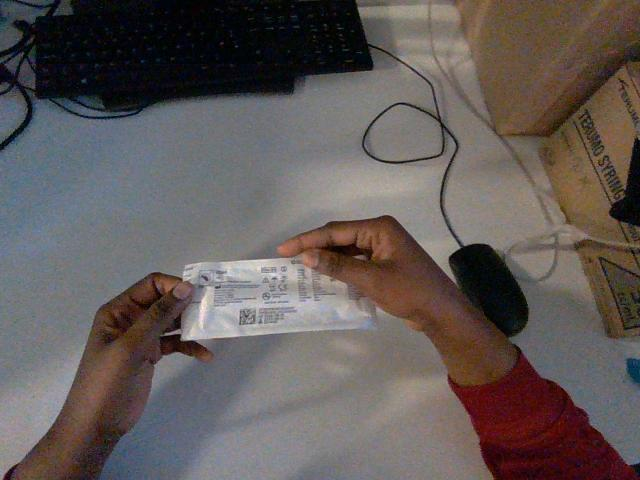syringe: (181, 258, 375, 339)
